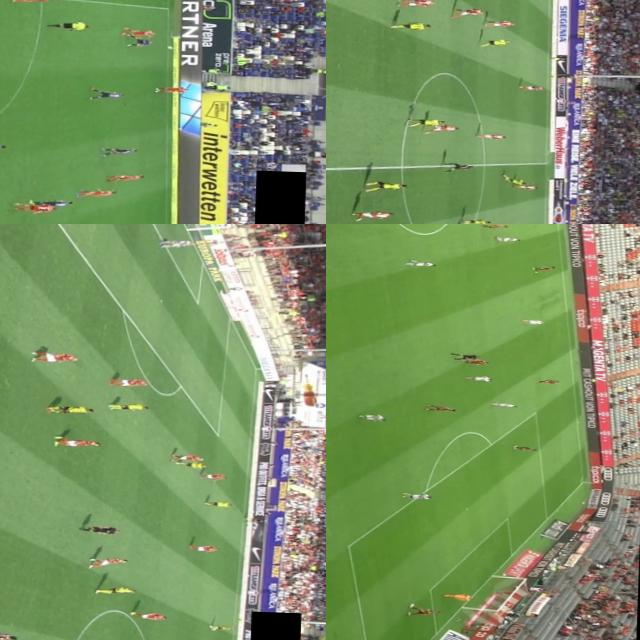ball: (404, 600, 419, 608), (163, 45, 175, 50)
player: (29, 350, 81, 366), (53, 436, 103, 448), (9, 202, 56, 214), (49, 403, 95, 415), (89, 557, 130, 570), (101, 172, 143, 184), (88, 87, 124, 101), (24, 198, 72, 208), (113, 376, 149, 389), (108, 401, 150, 412), (407, 115, 442, 128), (354, 209, 394, 220), (362, 182, 406, 192), (94, 586, 138, 596), (155, 238, 199, 248), (129, 611, 168, 622), (98, 146, 136, 157), (74, 188, 115, 198), (118, 34, 152, 46), (120, 26, 156, 37), (397, 0, 436, 10), (402, 258, 437, 269), (475, 36, 507, 48), (516, 83, 548, 94), (356, 412, 390, 422), (392, 22, 428, 31), (172, 459, 208, 468), (482, 20, 514, 30), (152, 85, 186, 94), (407, 608, 441, 617), (500, 174, 524, 186), (424, 124, 460, 132), (532, 262, 556, 274), (206, 500, 237, 509), (200, 471, 230, 480), (402, 491, 432, 500), (170, 454, 206, 461), (189, 544, 220, 552), (462, 375, 491, 383), (508, 183, 536, 191), (464, 358, 488, 367), (449, 10, 484, 16), (444, 594, 474, 601), (494, 236, 520, 244), (457, 218, 491, 224), (208, 624, 235, 631), (512, 444, 538, 451), (538, 378, 558, 387), (489, 402, 518, 408), (480, 133, 504, 140), (0, 631, 18, 640), (428, 406, 454, 412), (523, 319, 543, 326), (9, 0, 55, 3), (483, 224, 509, 229)
